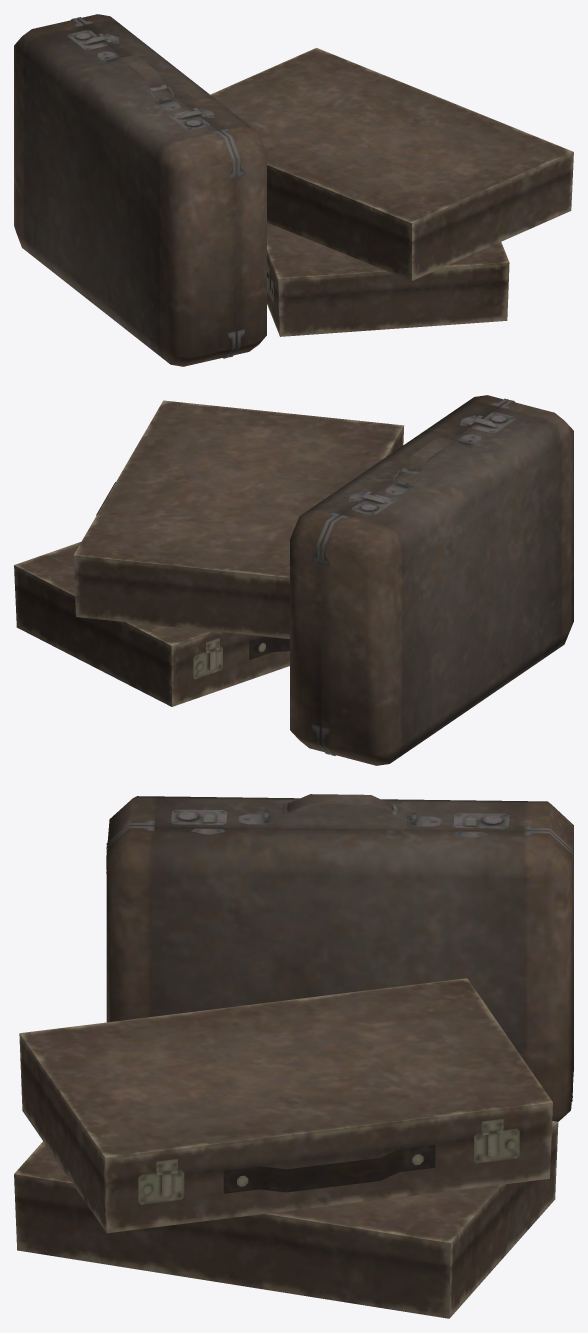
The model's file is ItemSpot.fbx.
The picture shows the model from 3 angles, top to bottom: view 1: azimuth 30°, elevation 25°; view 2: azimuth 150°, elevation 25°; view 3: azimuth 270°, elevation 25°; orthographic projection. The views are drawn at different scales.
Parts seen in each view (by area): view 1: ItemBox_Suitcase_03 (×2), ItemBox_Suitcase_01; view 2: ItemBox_Suitcase_01, ItemBox_Suitcase_03 (×2); view 3: ItemBox_Suitcase_03 (×2), ItemBox_Suitcase_01.
Part boxes in pixels (x1=…): ItemBox_Suitcase_03 (×2): x1=210, y1=48, x2=573, y2=336; ItemBox_Suitcase_01: x1=14, y1=14, x2=266, y2=366; ItemBox_Suitcase_01: x1=290, y1=395, x2=573, y2=765; ItemBox_Suitcase_03 (×2): x1=14, y1=400, x2=404, y2=706; ItemBox_Suitcase_03 (×2): x1=14, y1=978, x2=558, y2=1318; ItemBox_Suitcase_01: x1=106, y1=794, x2=573, y2=1121.
Bounding box in the file's own units: 1.19 × 0.6636 × 1.09.
1 material, 1 textured.
